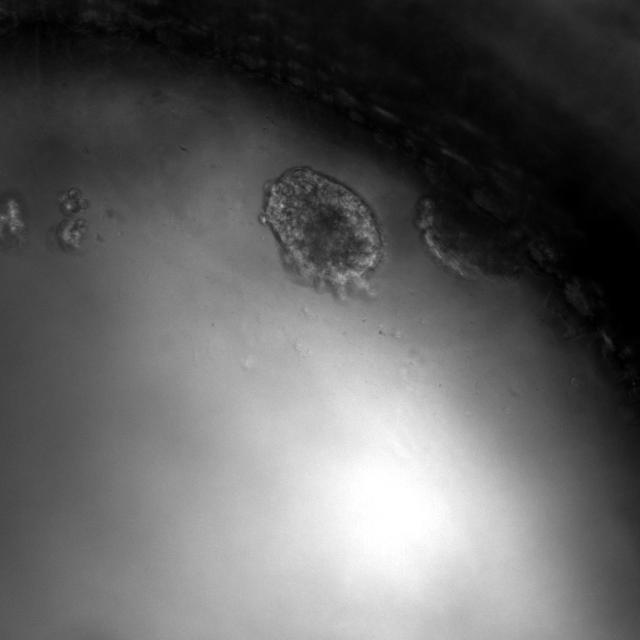organoid: (260, 167, 384, 293), (416, 182, 521, 279), (0, 194, 27, 249), (56, 218, 88, 251), (58, 188, 89, 215)
